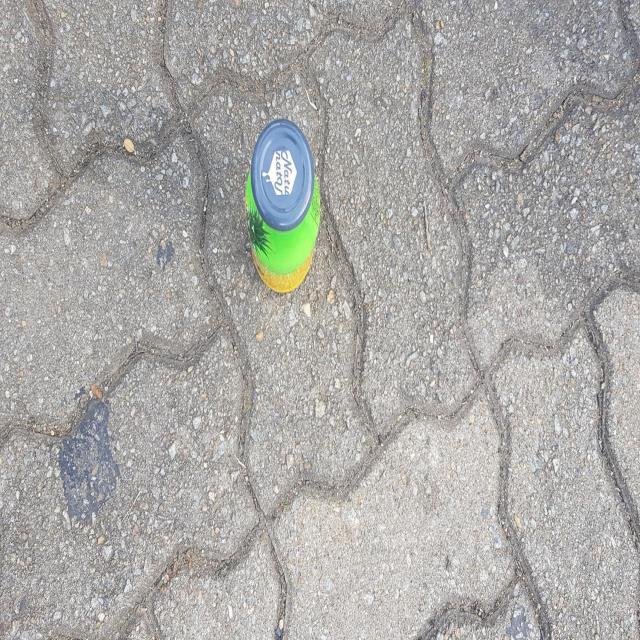glass: (245, 118, 321, 291)
